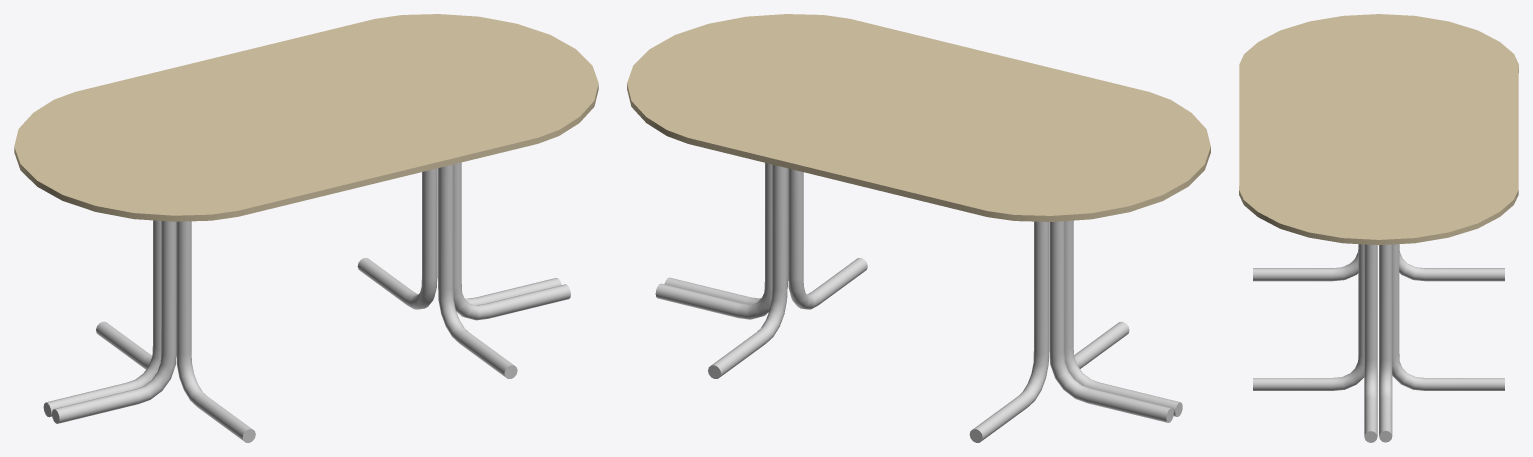
File: sweethome3d-contributions-table-214.glb
3 views of the same model, side by side, from view 1: azimuth 30°, elevation 25°; view 2: azimuth 150°, elevation 25°; view 3: azimuth 270°, elevation 25° (orthographic). The views are drawn at different scales.
Visible parts, largest first — view 1: mesh01, mesh03; view 2: mesh01, mesh03; view 3: mesh01, mesh03.
Part boxes in pixels (bbox=[...]): mesh01: bbox=[14, 14, 598, 221]; mesh03: bbox=[43, 162, 570, 442]; mesh01: bbox=[627, 14, 1210, 221]; mesh03: bbox=[655, 163, 1182, 442]; mesh01: bbox=[1239, 14, 1518, 244]; mesh03: bbox=[1253, 244, 1504, 442].
Bounding box in the file's own units: 203 × 87.54 × 106.
